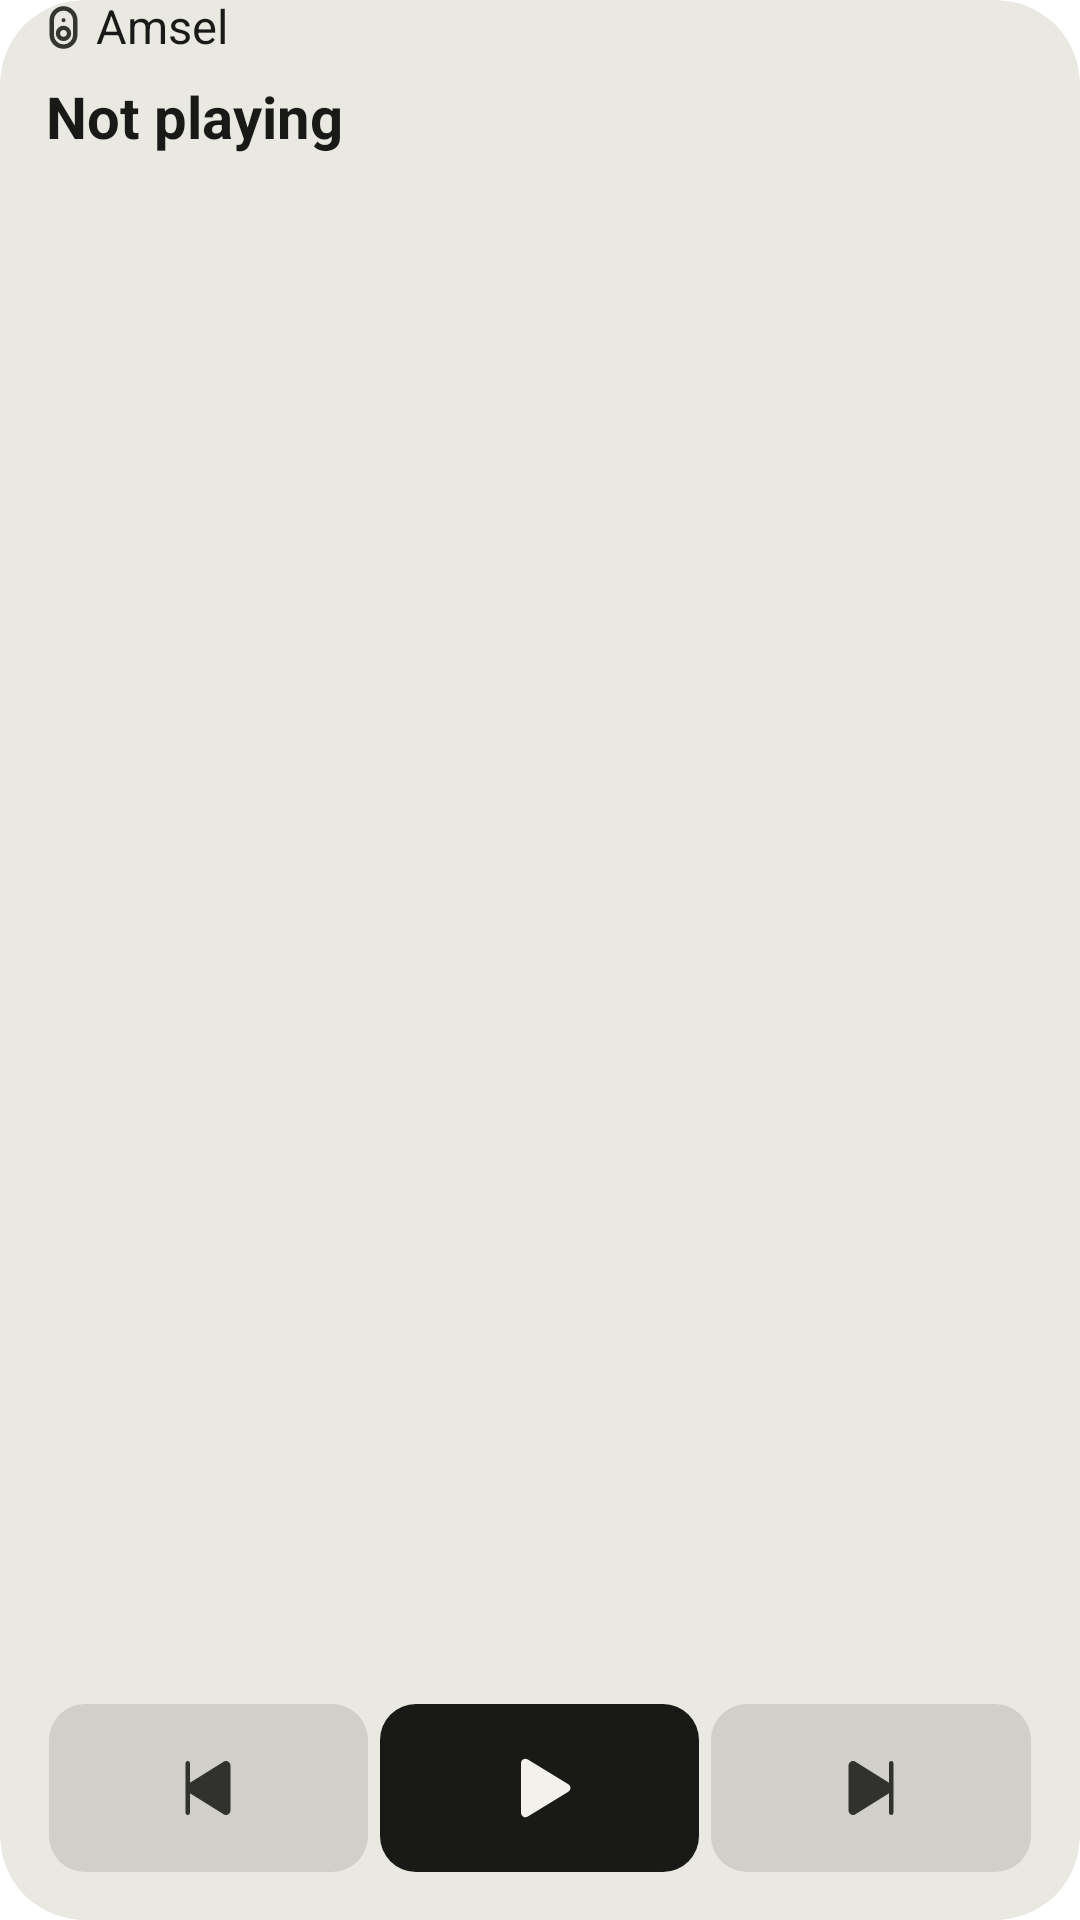

Icons on this 1080 × 1920 Android screen, each with its box as (x1, y1, x2, y2):
play: (521, 1758, 571, 1818)
skip next: (848, 1761, 894, 1815)
skip previous: (185, 1761, 231, 1815)
